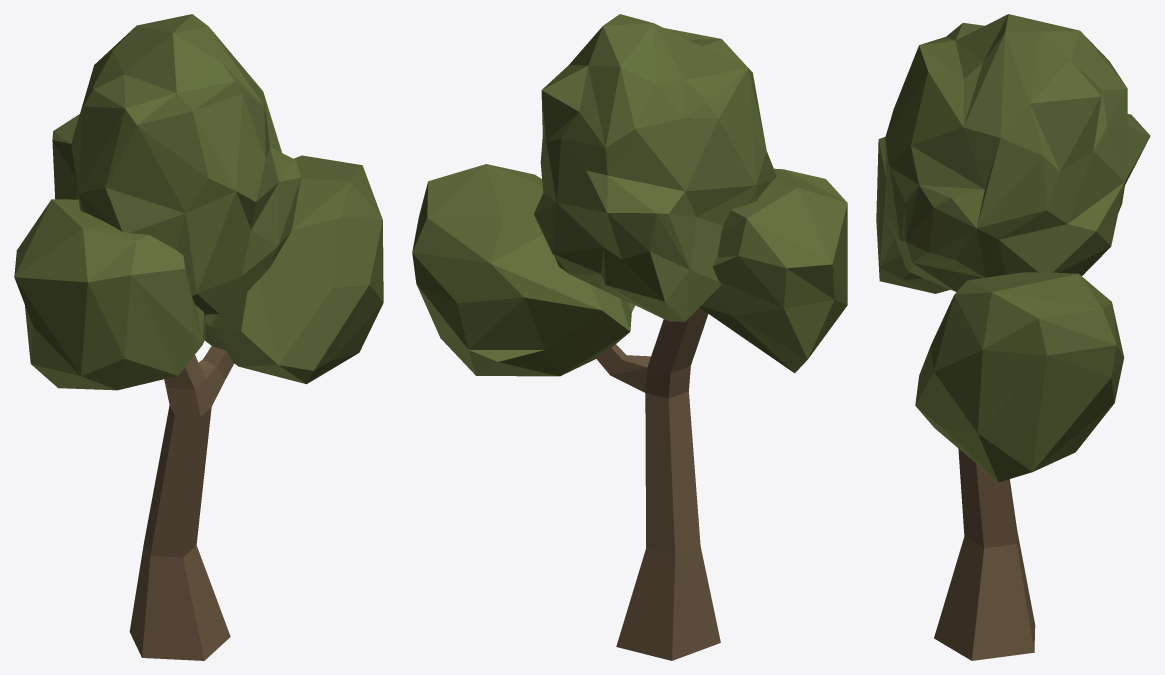
Rendered from Env_Tree_01.glb.
3 renders of one model, left to right at view 1: azimuth 30°, elevation 25°; view 2: azimuth 150°, elevation 25°; view 3: azimuth 270°, elevation 25°, orthographic. The views are drawn at different scales.
Visible parts, largest first — view 1: SM_Env_Tree_01; view 2: SM_Env_Tree_01; view 3: SM_Env_Tree_01.
Part boxes in pixels (x1=…): SM_Env_Tree_01: x1=14, y1=14, x2=383, y2=660; SM_Env_Tree_01: x1=412, y1=14, x2=847, y2=660; SM_Env_Tree_01: x1=876, y1=14, x2=1150, y2=660.
Size of the model in its own units: 2.32 by 3.55 by 1.41.
1 material, 1 textured.
